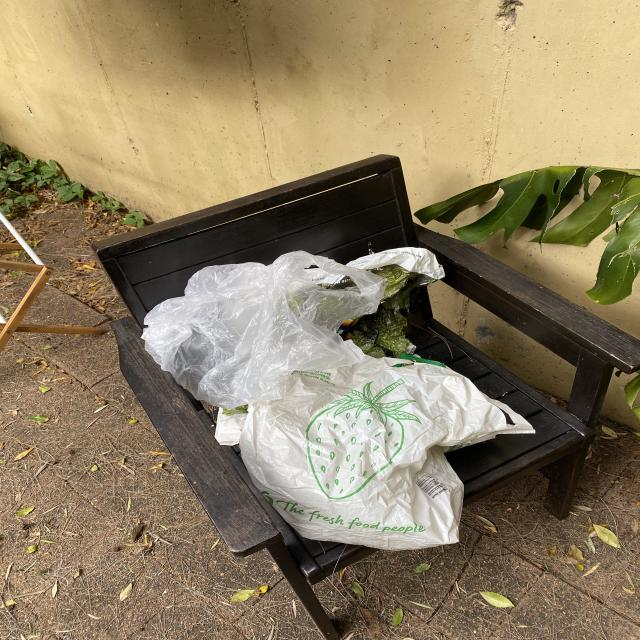bag: (213, 344, 540, 554)
cloth: (135, 248, 451, 408)
